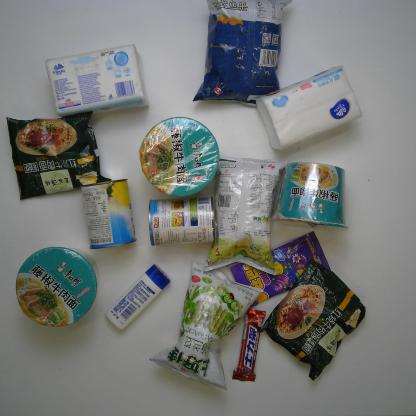Candy: (230, 230, 332, 308)
Canned Food: (80, 178, 137, 250), (148, 196, 216, 247)
Chocolate: (231, 308, 266, 382)
Instant Noodles: (258, 260, 366, 382), (5, 110, 114, 201), (13, 246, 100, 328), (139, 116, 221, 198), (269, 162, 350, 232)
Personal Hygiene: (104, 263, 171, 332)
Puffed Food: (148, 259, 264, 392), (193, 0, 293, 108), (202, 155, 288, 276)
Tissue: (256, 64, 363, 150), (46, 43, 150, 119)
